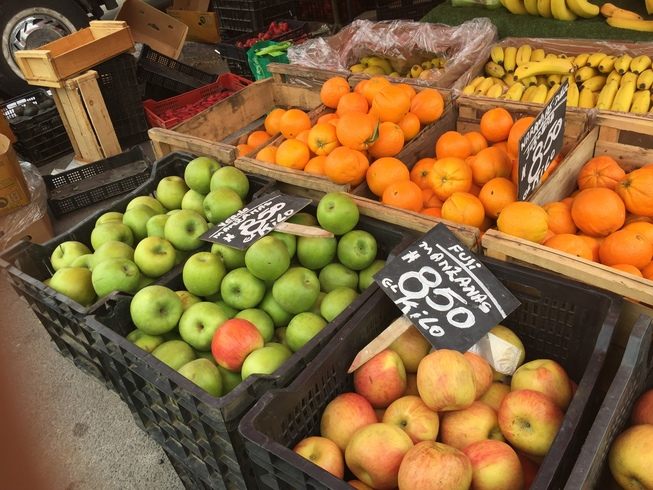precio: (375, 221, 521, 363), (195, 173, 316, 262), (512, 76, 582, 200)
